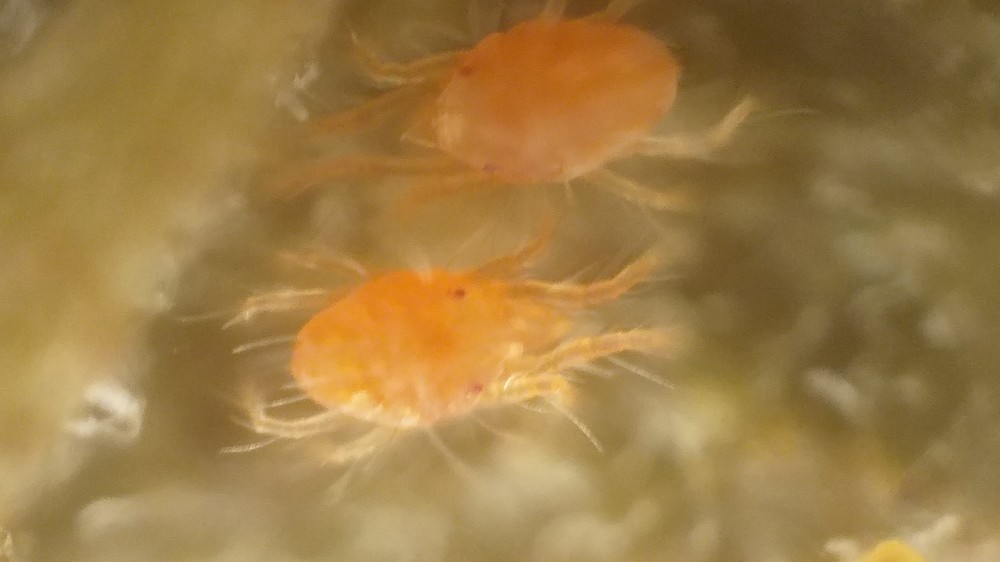Aracnido Rojo: (213, 217, 715, 480), (266, 5, 794, 219)
